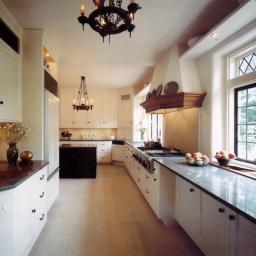Electrodomestico: (139, 145, 187, 159)
